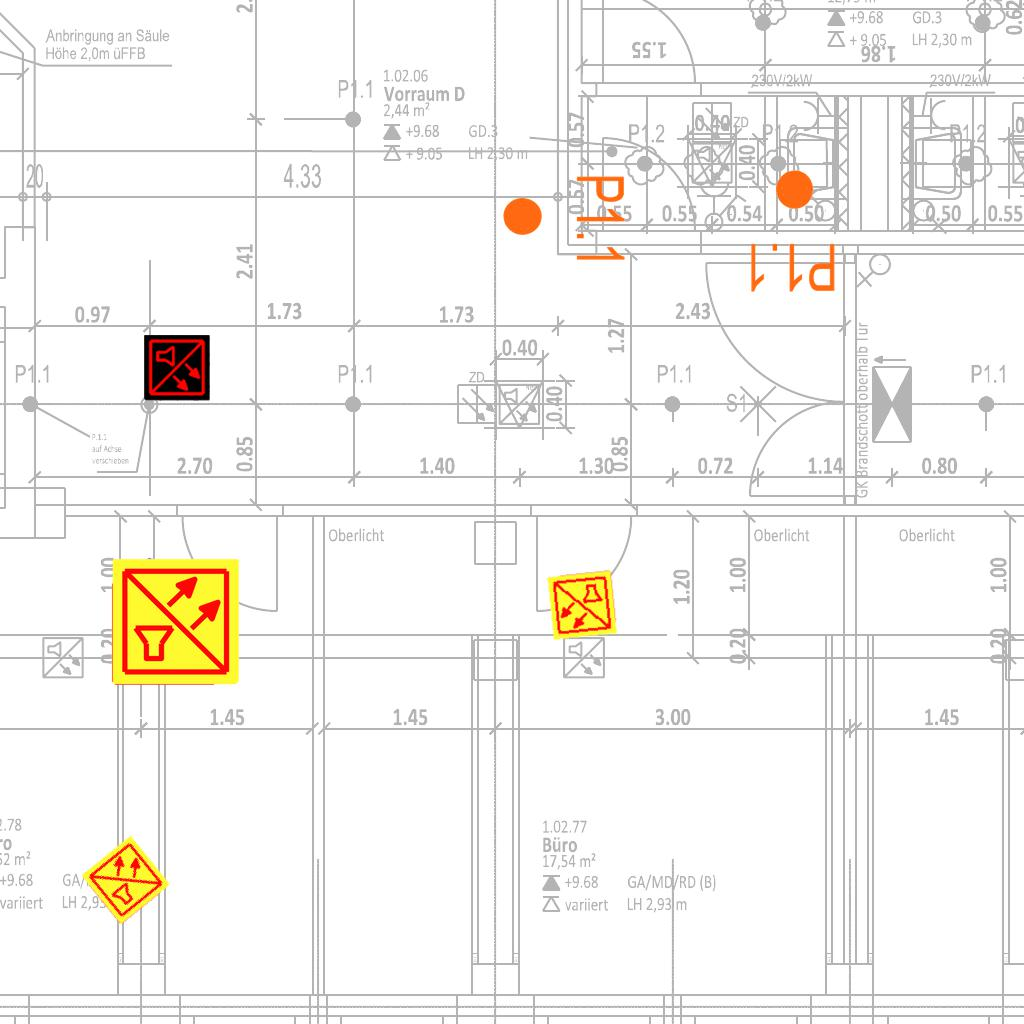Ausschalter_beleuchtet: (109, 554, 165, 602)
Downlight_LED_Einbauleuchten_Flur: (745, 167, 838, 295), (500, 173, 628, 266)
OKW_Multisensormelder_(Kombination_optischer_Rauch-Kahlenmonoxid_Waerme-Melder): (110, 556, 242, 688), (79, 833, 173, 927), (545, 568, 619, 642), (144, 335, 210, 401)
